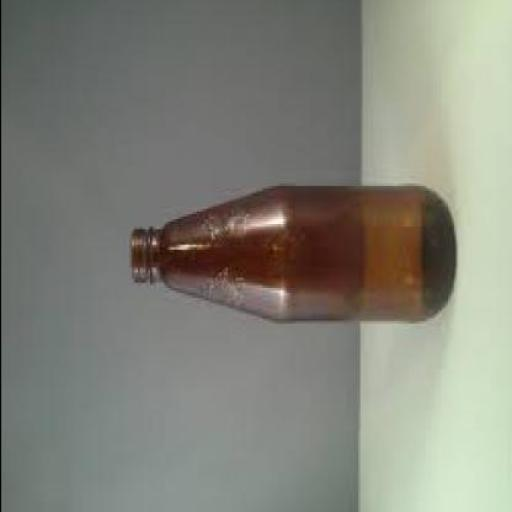glass: (128, 186, 453, 328)
